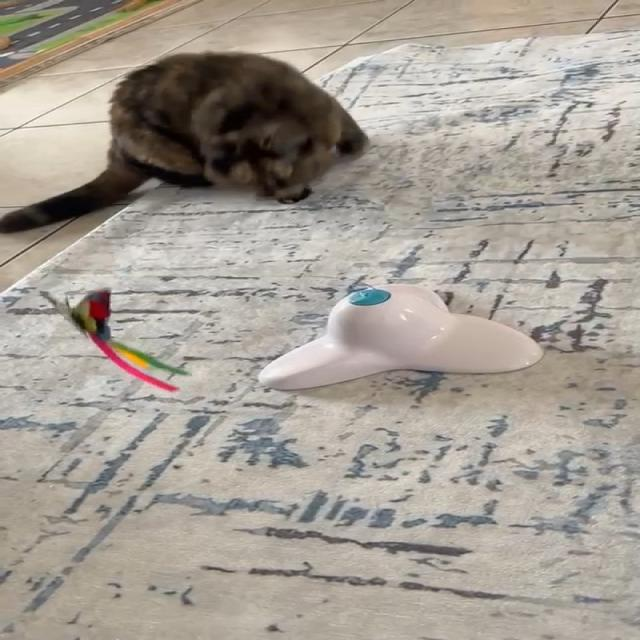authorized: (0, 50, 369, 234)
